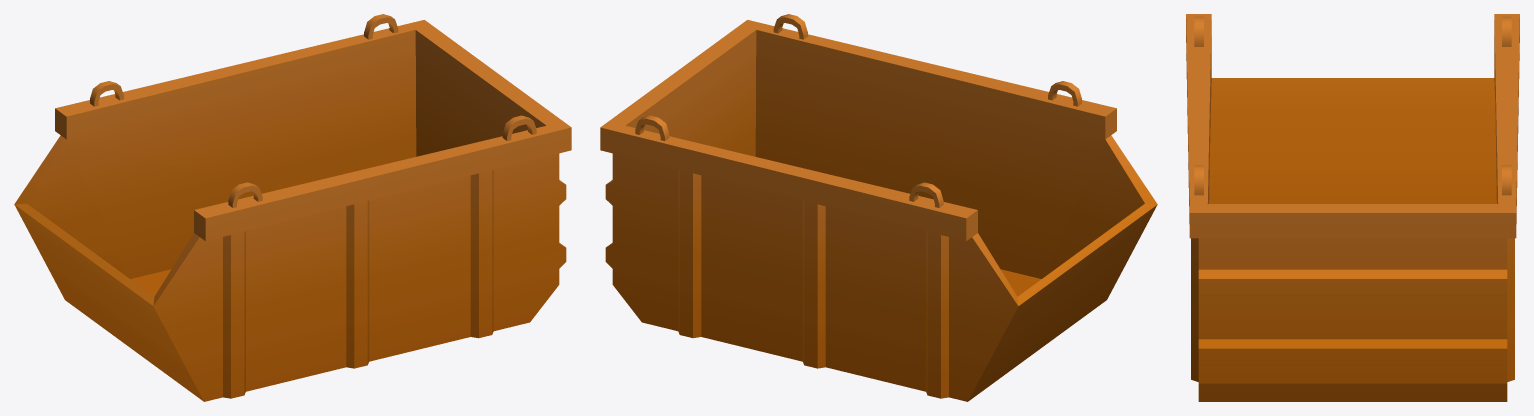
Rendered from RubbleContainer_B_1.fbx.
3 views of the same model, side by side, from view 1: azimuth 30°, elevation 25°; view 2: azimuth 150°, elevation 25°; view 3: azimuth 270°, elevation 25° (orthographic). The views are drawn at different scales.
Parts seen in each view (by area): view 1: RubbleContainer_B_1; view 2: RubbleContainer_B_1; view 3: RubbleContainer_B_1.
Boxes of the visible parts, x1=… form: RubbleContainer_B_1: x1=14, y1=14, x2=571, y2=401; RubbleContainer_B_1: x1=600, y1=14, x2=1157, y2=401; RubbleContainer_B_1: x1=1186, y1=14, x2=1519, y2=401.
Size of the model in its own units: 413 by 197 by 260.
